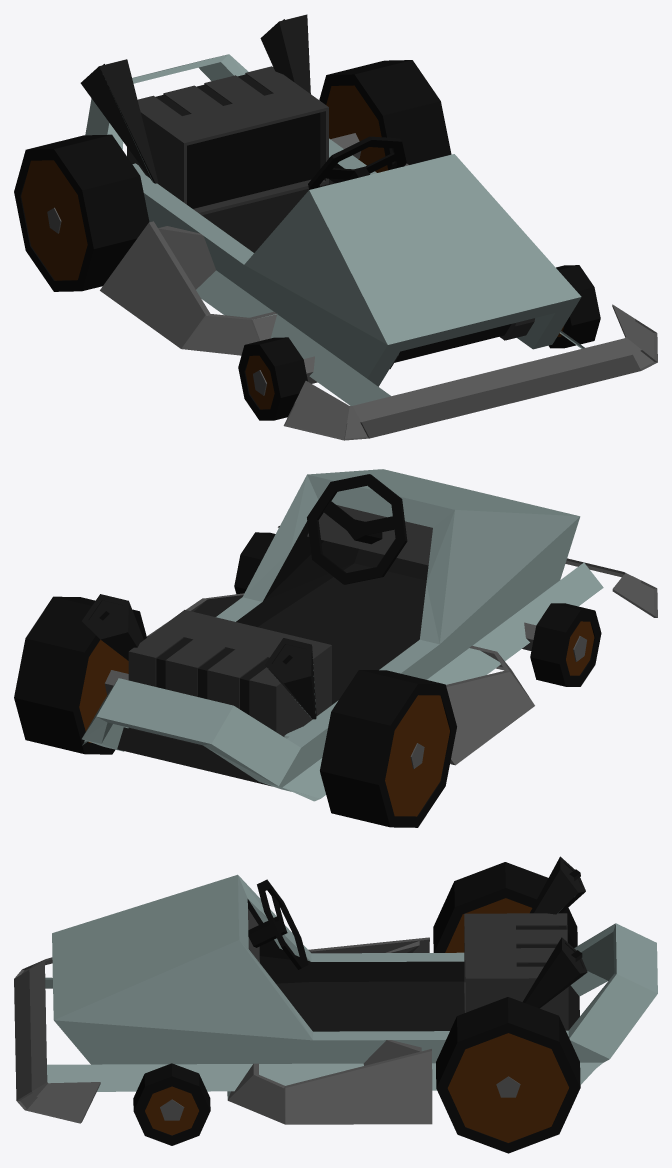
File: Race_White.obj
3 renders of one model, top to bottom at view 1: azimuth 30°, elevation 25°; view 2: azimuth 150°, elevation 25°; view 3: azimuth 270°, elevation 25°, orthographic. The views are drawn at different scales.
Parts seen in each view (by area): view 1: Kart_instance_2_ID165; view 2: Kart_instance_2_ID165; view 3: Kart_instance_2_ID165.
Part boxes in pixels (bbox=[...]): Kart_instance_2_ID165: bbox=[14, 14, 657, 440]; Kart_instance_2_ID165: bbox=[14, 469, 657, 827]; Kart_instance_2_ID165: bbox=[14, 856, 657, 1153].
Bounding box in the file's own units: 2.78 × 1.48 × 4.51.
